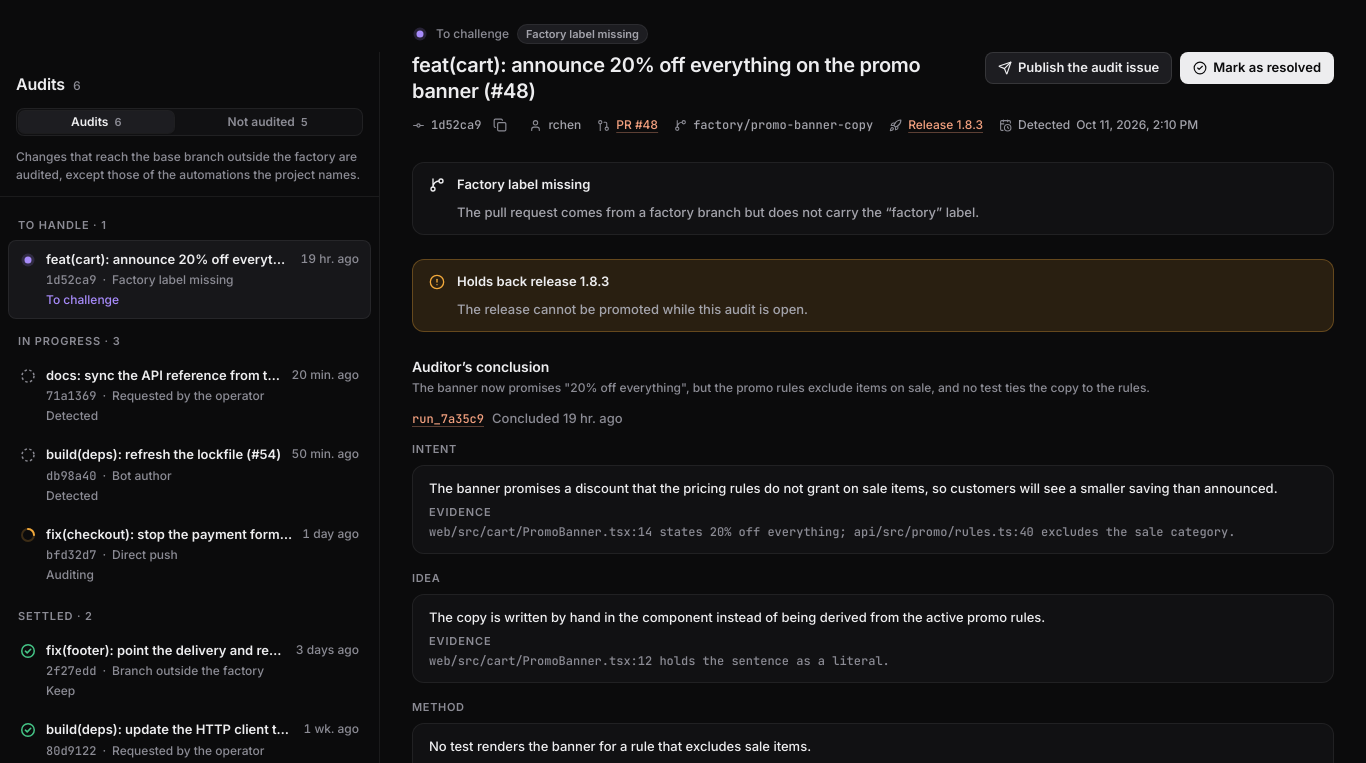
AuditsView publish the audit issue › shows the refusal of the factory
This screenshot has width=1366, height=763.
Click the button "Publish the audit issue" at x=1079, y=68, box top-left (985, 52), bottom-right (1172, 84)
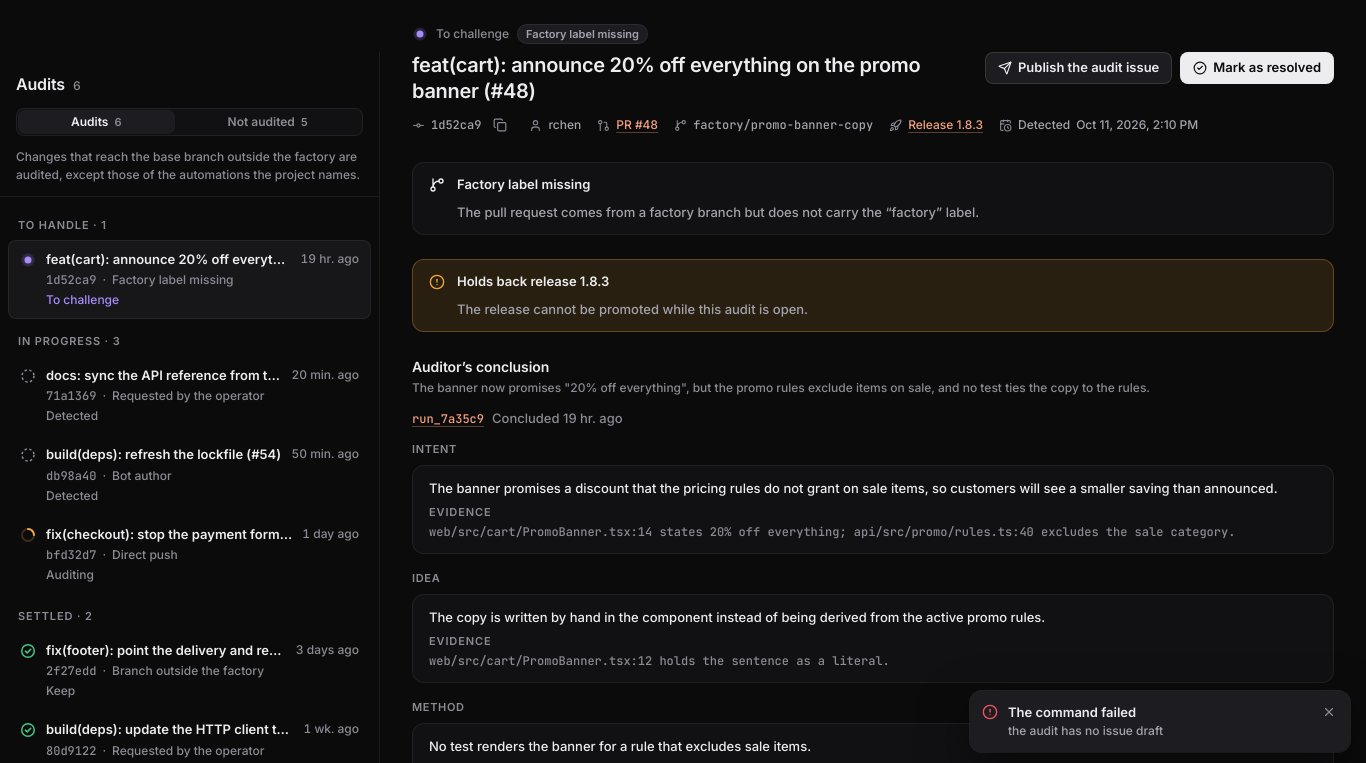
Result: the text "the audit has no issue draft" is shown at top-left (1008, 723), bottom-right (1163, 738)
